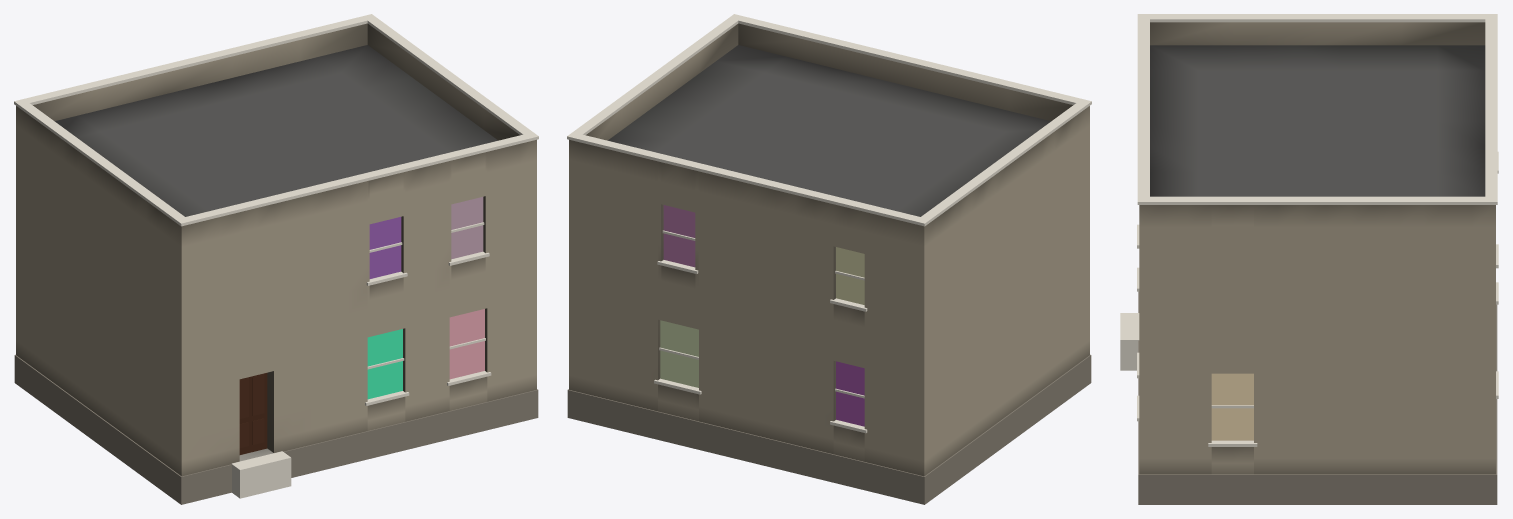
File: test-interior.glb
3 renders of one model, left to right at view 1: azimuth 30°, elevation 25°; view 2: azimuth 150°, elevation 25°; view 3: azimuth 270°, elevation 25°, orthographic. The views are drawn at different scales.
Parts seen in each view (by area): view 1: shell-plaster, shell-roof, shell-stone, shell-glass, door_front-timber; view 2: shell-plaster, shell-roof, shell-stone, shell-glass; view 3: shell-plaster, shell-roof, shell-stone, shell-glass.
Boxes of the visible parts, x1,y1,x2,y2 form: shell-plaster: [16, 23, 536, 476]; shell-roof: [55, 45, 497, 216]; shell-stone: [14, 14, 538, 504]; shell-glass: [367, 197, 484, 399]; door_front-timber: [239, 373, 267, 454]; shell-plaster: [569, 23, 1089, 476]; shell-roof: [608, 45, 1050, 216]; shell-stone: [567, 14, 1091, 504]; shell-glass: [660, 205, 864, 426]; shell-plaster: [1139, 22, 1495, 474]; shell-roof: [1150, 45, 1485, 196]; shell-stone: [1120, 14, 1498, 504]; shell-glass: [1211, 373, 1253, 440].
Size of the model in its own units: 10.5 by 7.88 by 8.91.
